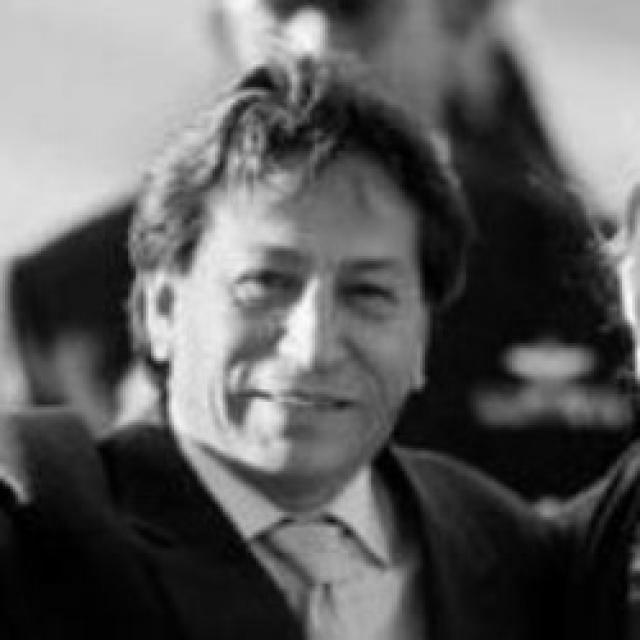real: (166, 147, 424, 478), (214, 251, 400, 322)
